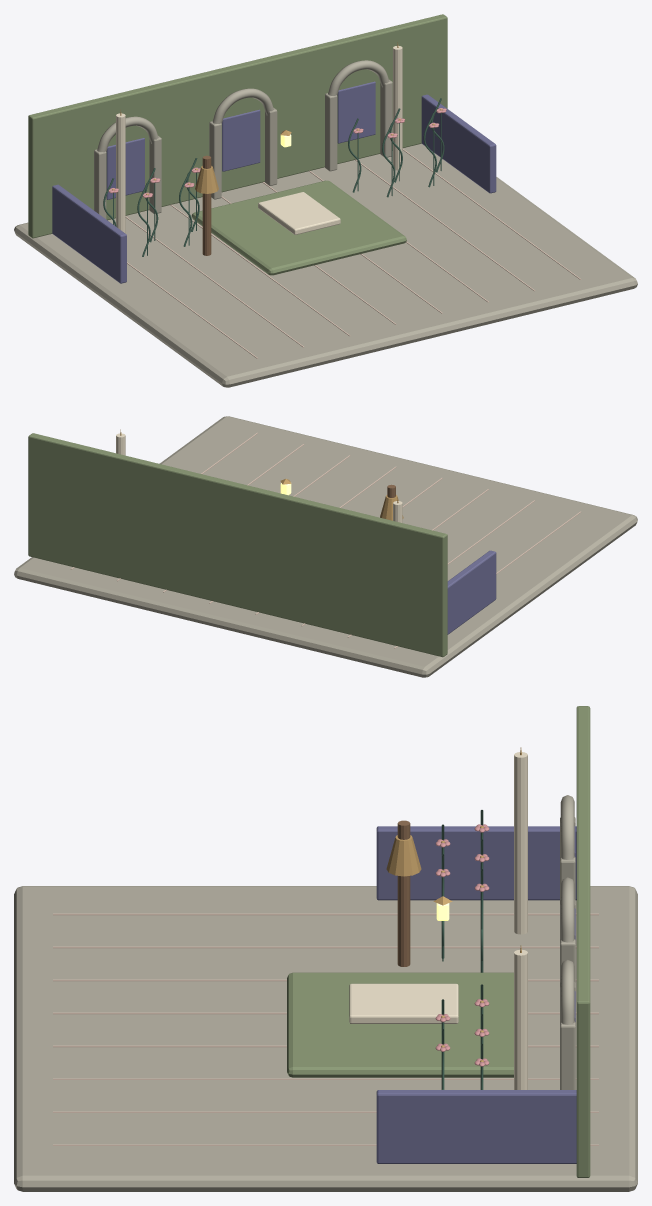
Rendered from sleep_tower-BY3NTULN.glb.
3 renders of one model, top to bottom at view 1: azimuth 30°, elevation 25°; view 2: azimuth 150°, elevation 25°; view 3: azimuth 270°, elevation 25°, orthographic. The views are drawn at different scales.
Visible parts, largest first — view 1: world_stone.039, world_Story secondary.014, world_Story primary.014, world_cream.039, world_leafdark.039, world_Story accent.014, world_wood.039, world_brass.039; view 2: world_Story secondary.014, world_stone.039, world_Story primary.014, world_Story accent.014, world_cream.039; view 3: world_stone.039, world_Story secondary.014, world_Story primary.014, world_cream.039, world_Story accent.014, world_leafdark.039, world_wood.039, world_brass.039, world_flower.039.
Boxes of the visible parts, x1=… form: world_stone.039: x1=14, y1=60, x2=637, y2=387; world_Story secondary.014: x1=28, y1=14, x2=447, y2=275; world_Story primary.014: x1=52, y1=81, x2=496, y2=283; world_cream.039: x1=116, y1=46, x2=402, y2=234; world_leafdark.039: x1=103, y1=98, x2=444, y2=256; world_Story accent.014: x1=125, y1=149, x2=581, y2=358; world_wood.039: x1=202, y1=155, x2=211, y2=255; world_brass.039: x1=112, y1=42, x2=442, y2=194; world_Story secondary.014: x1=28, y1=433, x2=447, y2=657; world_stone.039: x1=14, y1=416, x2=637, y2=677; world_Story primary.014: x1=447, y1=550, x2=496, y2=634; world_Story accent.014: x1=70, y1=432, x2=581, y2=648; world_cream.039: x1=116, y1=433, x2=402, y2=522; world_stone.039: x1=14, y1=795, x2=637, y2=1191; world_Story secondary.014: x1=287, y1=706, x2=590, y2=1177; world_Story primary.014: x1=376, y1=826, x2=576, y2=1163; world_cream.039: x1=349, y1=752, x2=527, y2=1089; world_Story accent.014: x1=53, y1=913, x2=598, y2=1145; world_leafdark.039: x1=441, y1=810, x2=483, y2=1089; world_wood.039: x1=397, y1=820, x2=410, y2=966; world_brass.039: x1=386, y1=747, x2=521, y2=1061; world_flower.039: x1=435, y1=824, x2=489, y2=1066.
Size of the model in its own units: 18 by 5.71 by 16.
